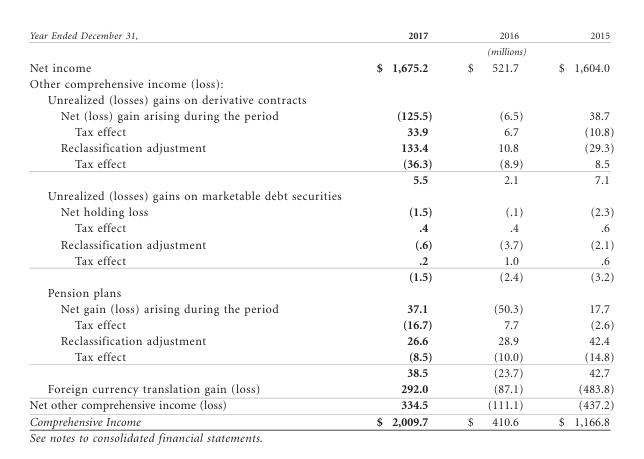table: (28, 29, 613, 427)
table column: (28, 29, 326, 427), (326, 29, 449, 427), (449, 29, 540, 427), (540, 29, 613, 427)
table column header: (28, 29, 613, 58)
table projected row header: (28, 75, 613, 91), (28, 91, 613, 107), (28, 187, 613, 203), (28, 284, 613, 300)
table row: (28, 58, 613, 75), (28, 235, 613, 252), (28, 42, 613, 58), (28, 75, 613, 91), (28, 91, 613, 107), (28, 107, 613, 123), (28, 123, 613, 139), (28, 139, 613, 155), (28, 155, 613, 171), (28, 171, 613, 187), (28, 187, 613, 203), (28, 203, 613, 219), (28, 219, 613, 235), (28, 252, 613, 268), (28, 268, 613, 284), (28, 284, 613, 300), (28, 300, 613, 316), (28, 316, 613, 332), (28, 332, 613, 348), (28, 348, 613, 364), (28, 364, 613, 380), (28, 380, 613, 396), (28, 396, 613, 412), (28, 412, 613, 427), (28, 29, 613, 42)
table spanning cell: (28, 29, 326, 58), (326, 42, 613, 58)
